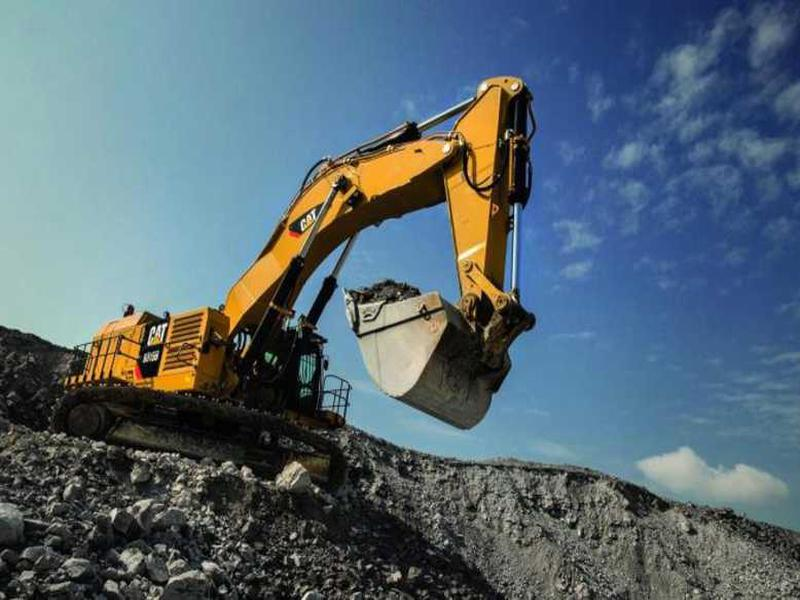shovel: (38, 63, 552, 461)
